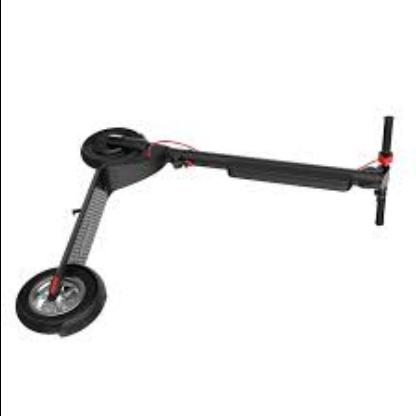bike: (16, 126, 397, 338)
